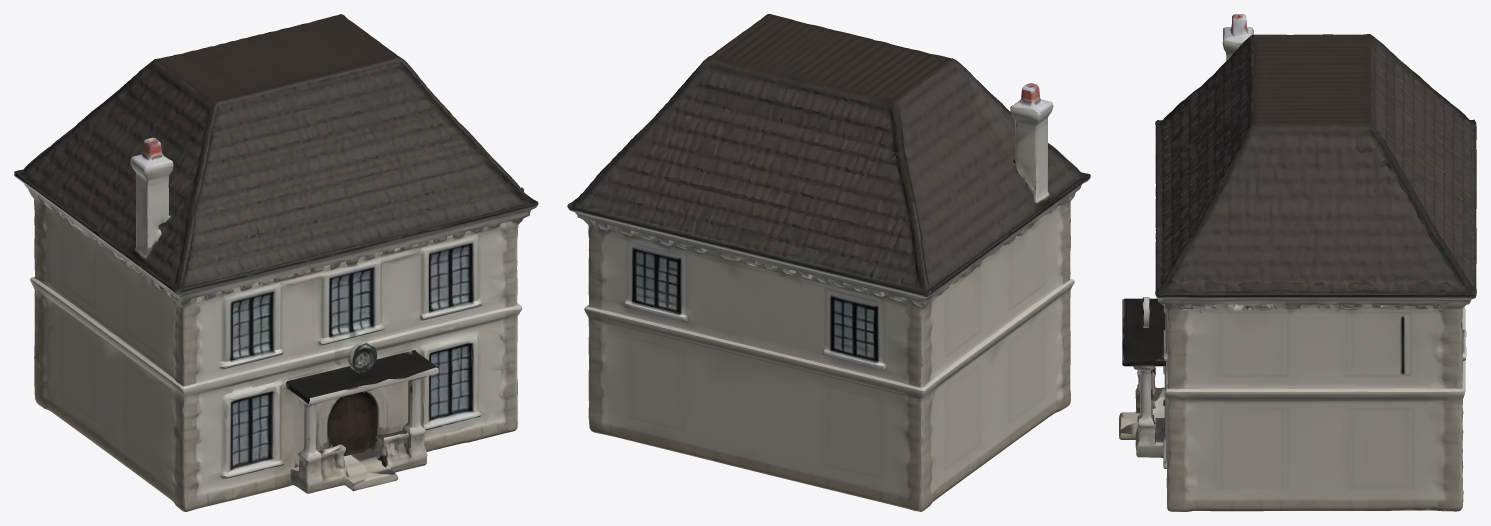
The model's file is house.glb.
3 views of the same model, side by side, from view 1: azimuth 30°, elevation 25°; view 2: azimuth 150°, elevation 25°; view 3: azimuth 270°, elevation 25° (orthographic).
Visible parts, largest first — view 1: tmp35hxises.ply; view 2: tmp35hxises.ply; view 3: tmp35hxises.ply.
Part boxes in pixels (x1=…): tmp35hxises.ply: x1=14, y1=14, x2=538, y2=511; tmp35hxises.ply: x1=567, y1=14, x2=1090, y2=511; tmp35hxises.ply: x1=1119, y1=14, x2=1476, y2=511.
Size of the model in its own units: 4.73 by 4.5 by 4.1.
Materials: 1 (1 with a texture image).
